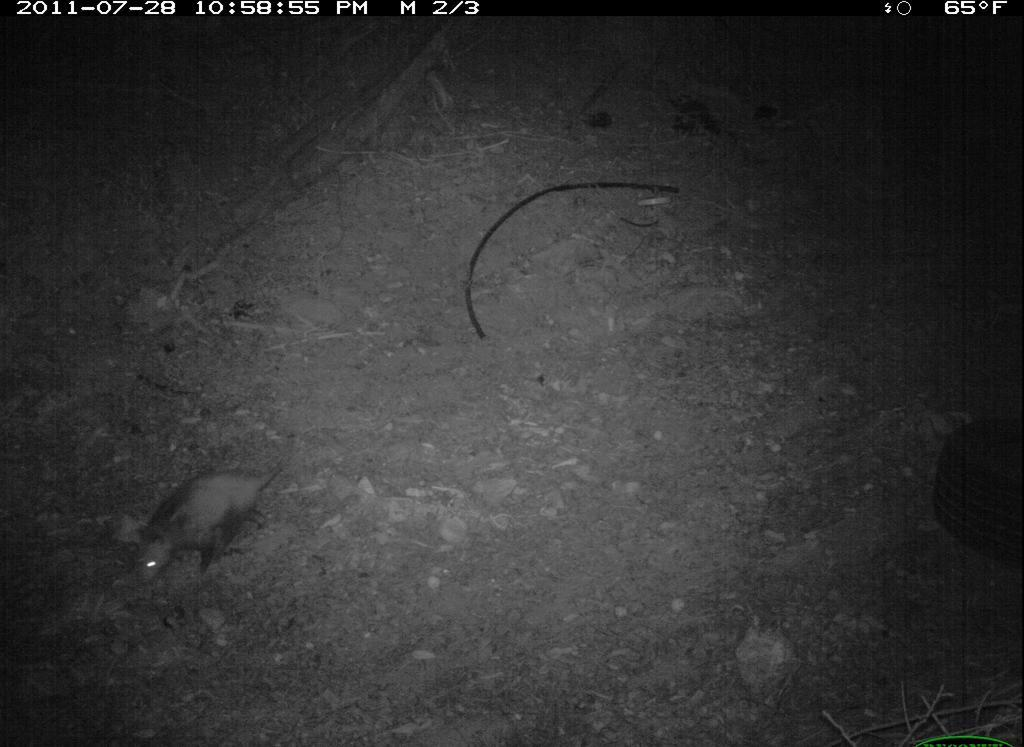opossum: (120, 460, 296, 588)
